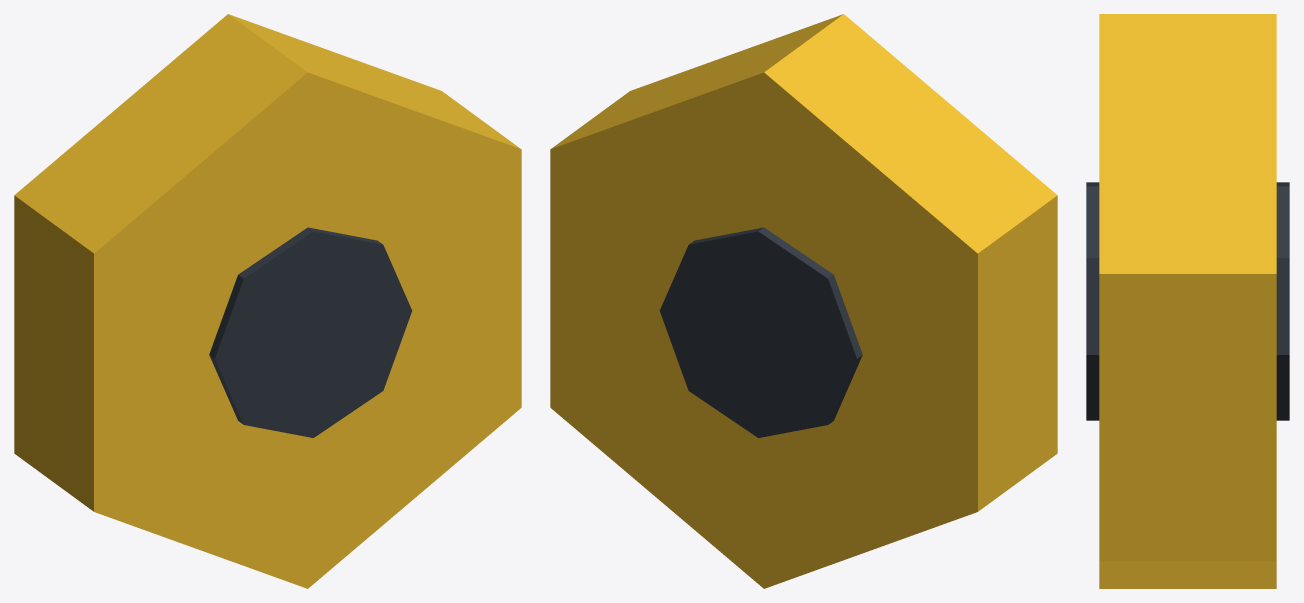
File: gameplay_bolt_collectible.glb
The picture shows the model from 3 angles, left to right: view 1: azimuth 30°, elevation 25°; view 2: azimuth 150°, elevation 25°; view 3: azimuth 270°, elevation 25°; orthographic projection. The views are drawn at different scales.
Parts seen in each view (by area): view 1: gameplay_bolt_collectible_yellow, gameplay_bolt_collectible_steelDark; view 2: gameplay_bolt_collectible_yellow, gameplay_bolt_collectible_steelDark; view 3: gameplay_bolt_collectible_yellow, gameplay_bolt_collectible_steelDark.
Part boxes in pixels (<box>): gameplay_bolt_collectible_yellow: <box>14,14,521,588</box>; gameplay_bolt_collectible_steelDark: <box>209,227,412,437</box>; gameplay_bolt_collectible_yellow: <box>550,14,1057,588</box>; gameplay_bolt_collectible_steelDark: <box>659,227,862,437</box>; gameplay_bolt_collectible_yellow: <box>1099,14,1276,588</box>; gameplay_bolt_collectible_steelDark: <box>1086,182,1289,420</box>.
Size of the model in its own units: 0.433 by 0.5 by 0.16.
